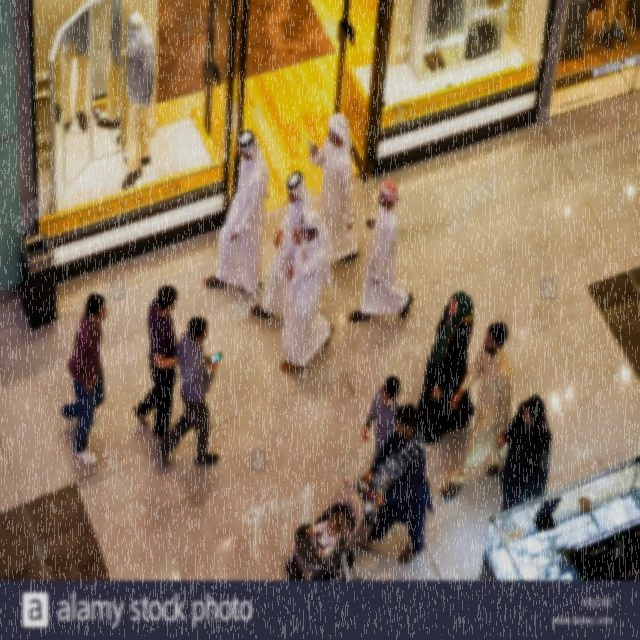pessoa: (46, 0, 158, 197), (352, 399, 436, 566), (439, 320, 516, 501), (200, 127, 270, 297), (152, 314, 224, 470), (276, 206, 338, 374), (346, 178, 414, 328), (414, 289, 477, 447), (250, 170, 314, 320), (57, 292, 109, 468), (308, 112, 360, 264), (132, 283, 180, 442), (496, 394, 553, 512), (361, 374, 403, 506), (292, 507, 342, 570), (595, 0, 636, 57)
